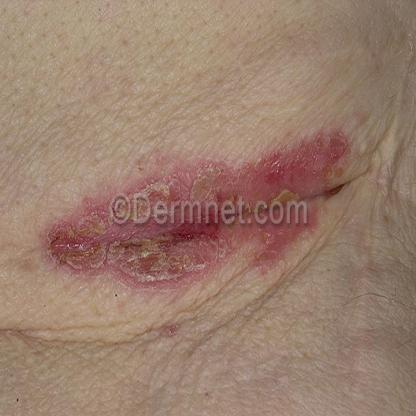Psoriasis: (35, 130, 365, 294)
